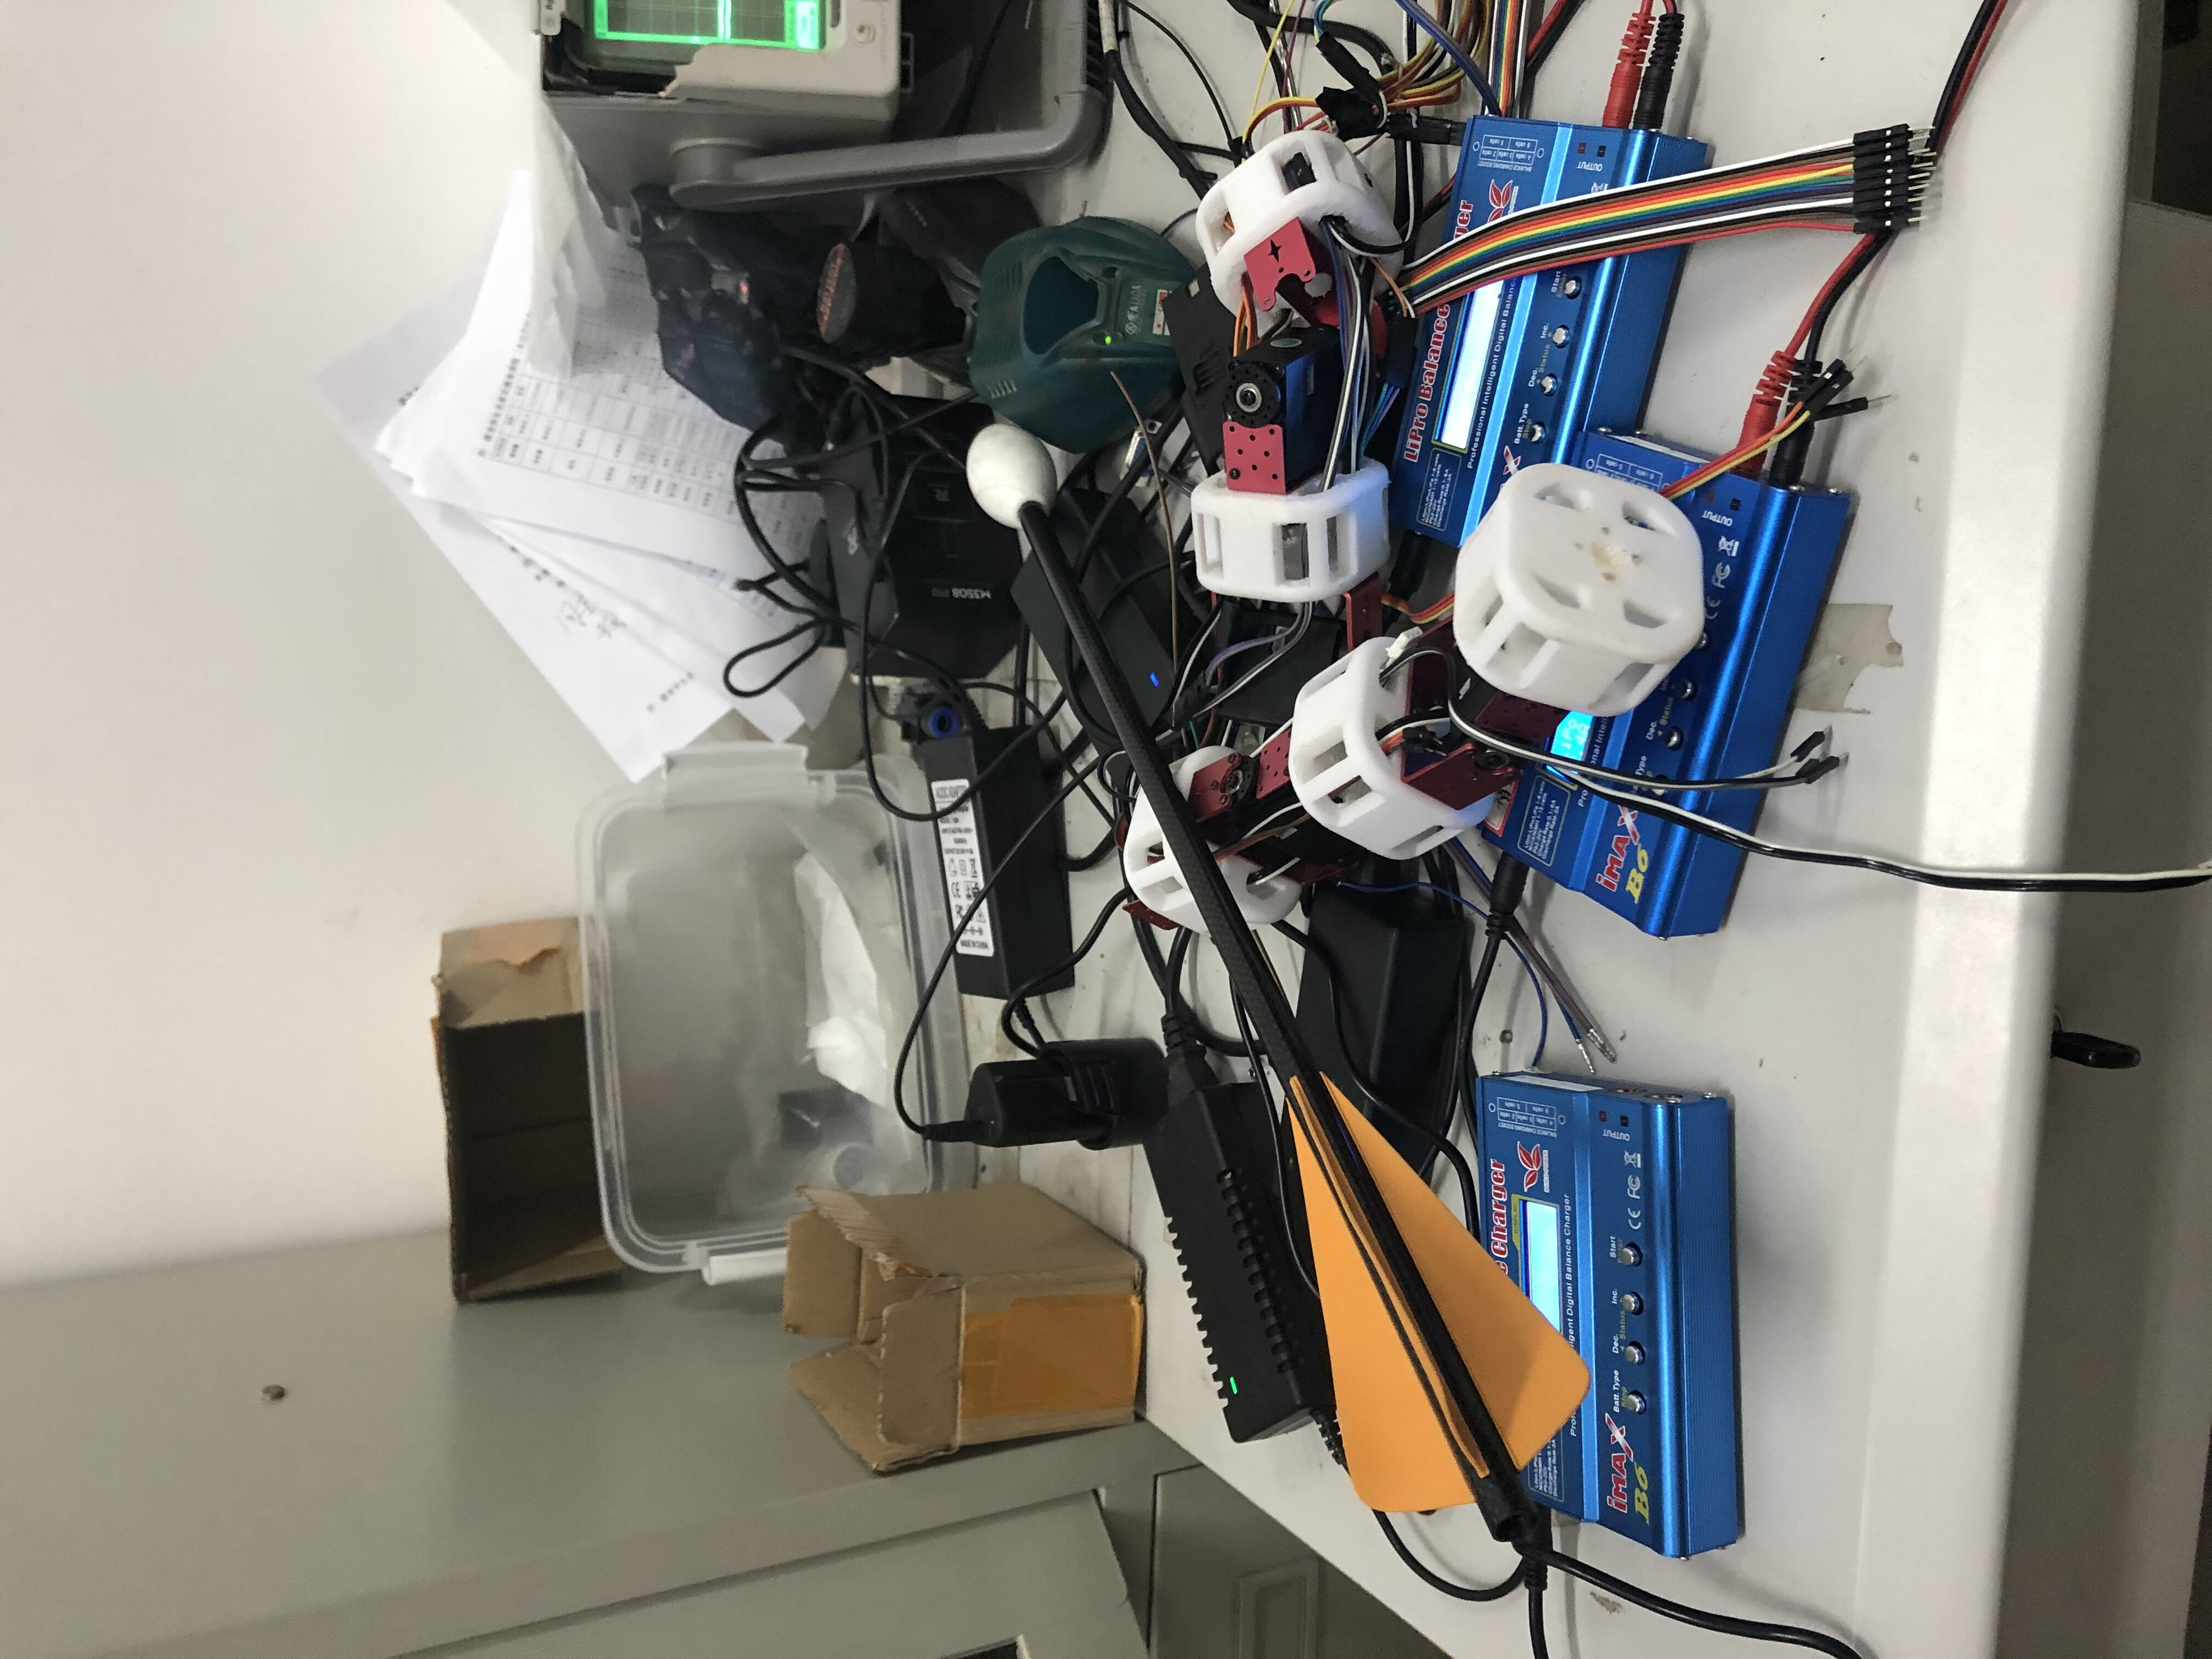arrow: (956, 416, 1594, 1546)
arrowFront: (960, 422, 1057, 532)
